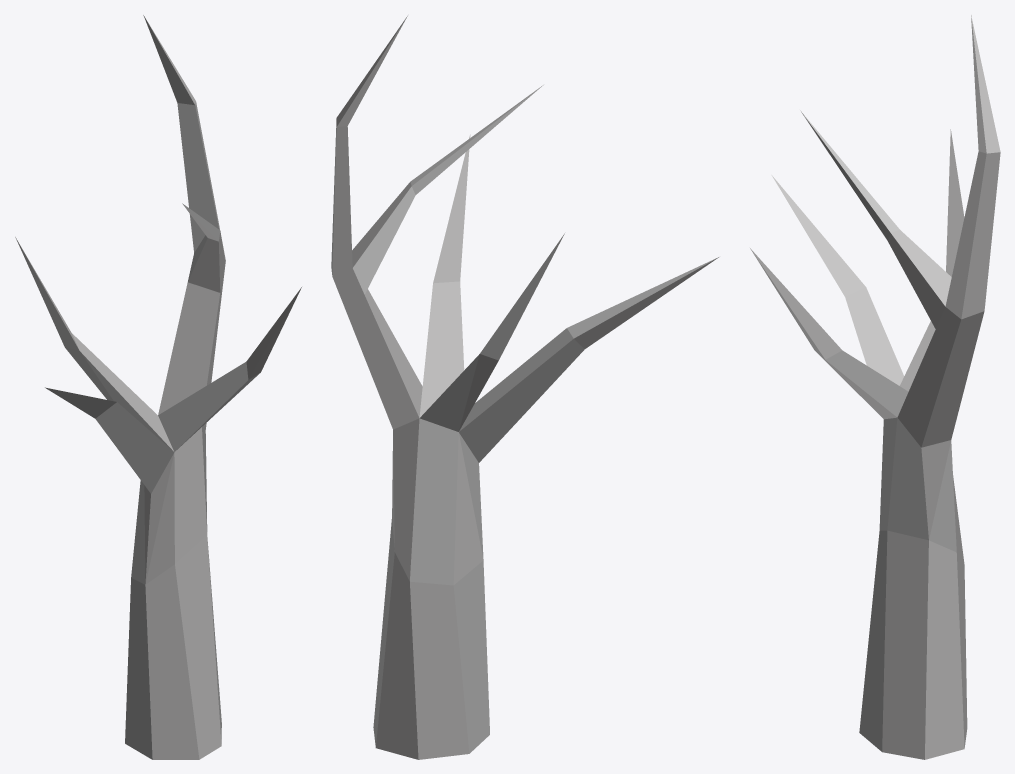
The model's file is TreeAutumn6_Alt1.fbx.
3 renders of one model, left to right at view 1: azimuth 30°, elevation 25°; view 2: azimuth 150°, elevation 25°; view 3: azimuth 270°, elevation 25°, orthographic. The views are drawn at different scales.
Parts seen in each view (by area): view 1: TreeAutumn6_Alt1; view 2: TreeAutumn6_Alt1; view 3: TreeAutumn6_Alt1.
Part boxes in pixels (x1=…): TreeAutumn6_Alt1: x1=15, y1=15, x2=301, y2=759; TreeAutumn6_Alt1: x1=331, y1=16, x2=718, y2=759; TreeAutumn6_Alt1: x1=750, y1=15, x2=1000, y2=759.
Size of the model in its own units: 0.8585 by 2.11 by 0.6677.
